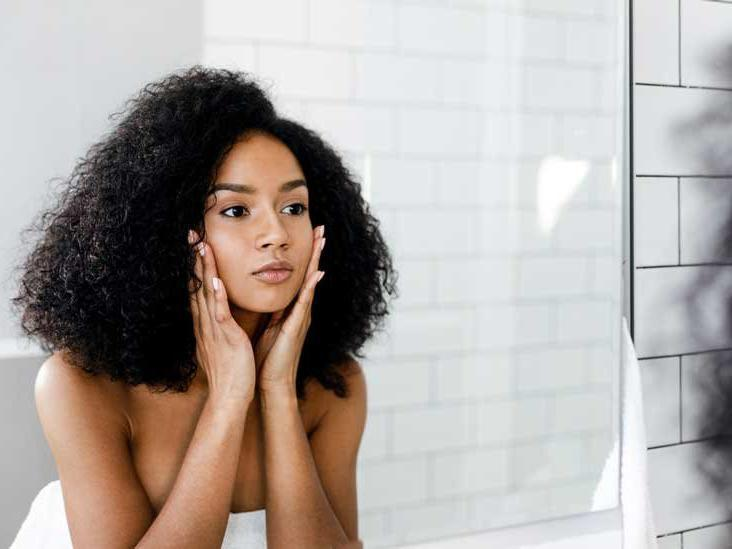Sober: (214, 142, 309, 303)
